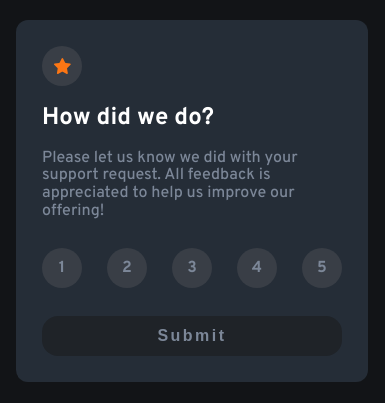
Test: Rating component › thank you message is displayed when submitted state is true
What coordinates should you click on to do the following:
click the text "2"
I would click on:
 (127, 268)
Its box is [107,248,147,288].
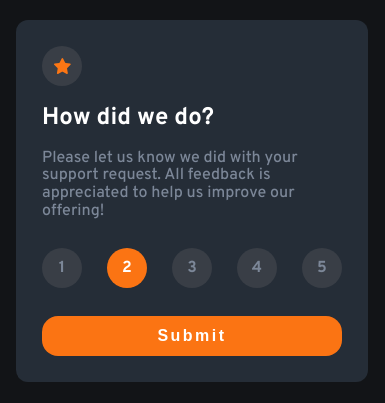
What coordinates should you click on to do the following:
click the button "Submit"
I would click on:
 (192, 336)
Its box is [42,316,342,356].
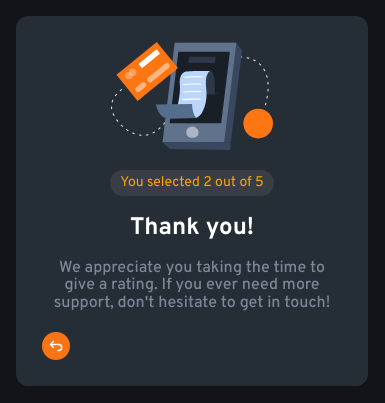
Now the heading "Thank you!" is shown, box [130,216,254,240]
